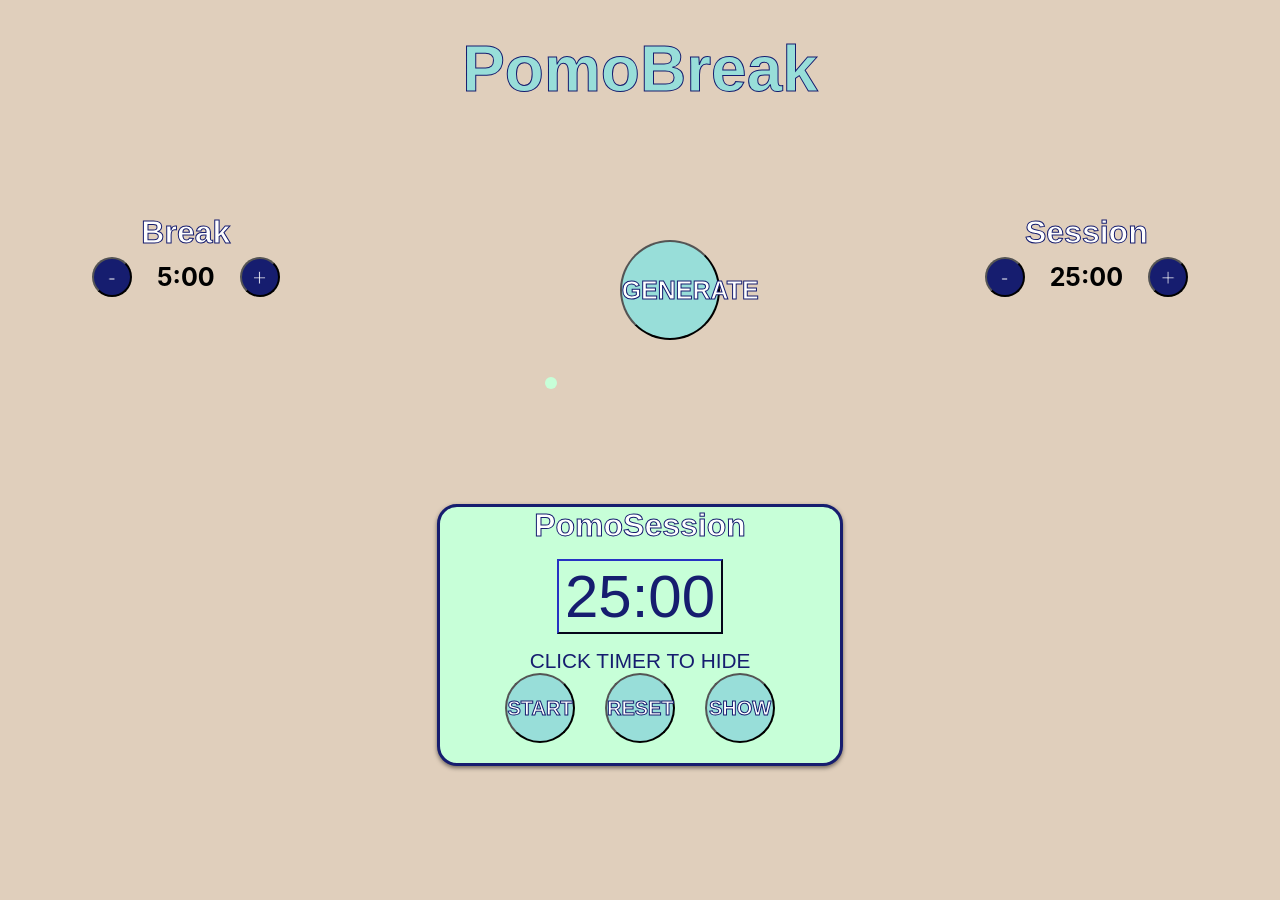
Test: Session Length Test: Can Decrease and Increase Timer
The image size is (1280, 900).
Step 1. Click the button with id "session-reduce" → (1005, 276), box 985,256 -> 1025,296
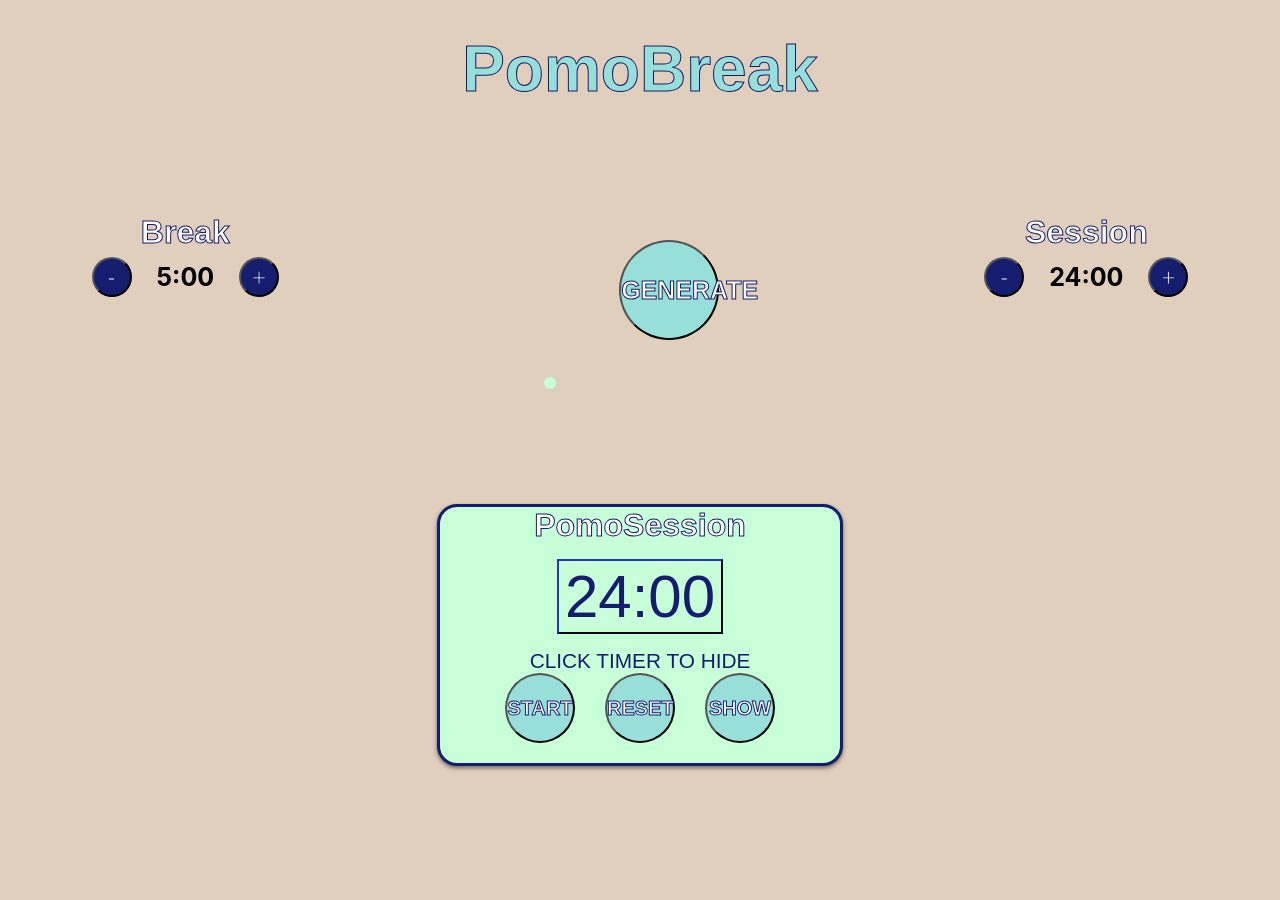
Check: the heading with id "session-length" reads "24:00", box 1049,262 -> 1123,292
Step 2. Click the button with id "session-increase" → (1168, 276), box 1148,256 -> 1188,296
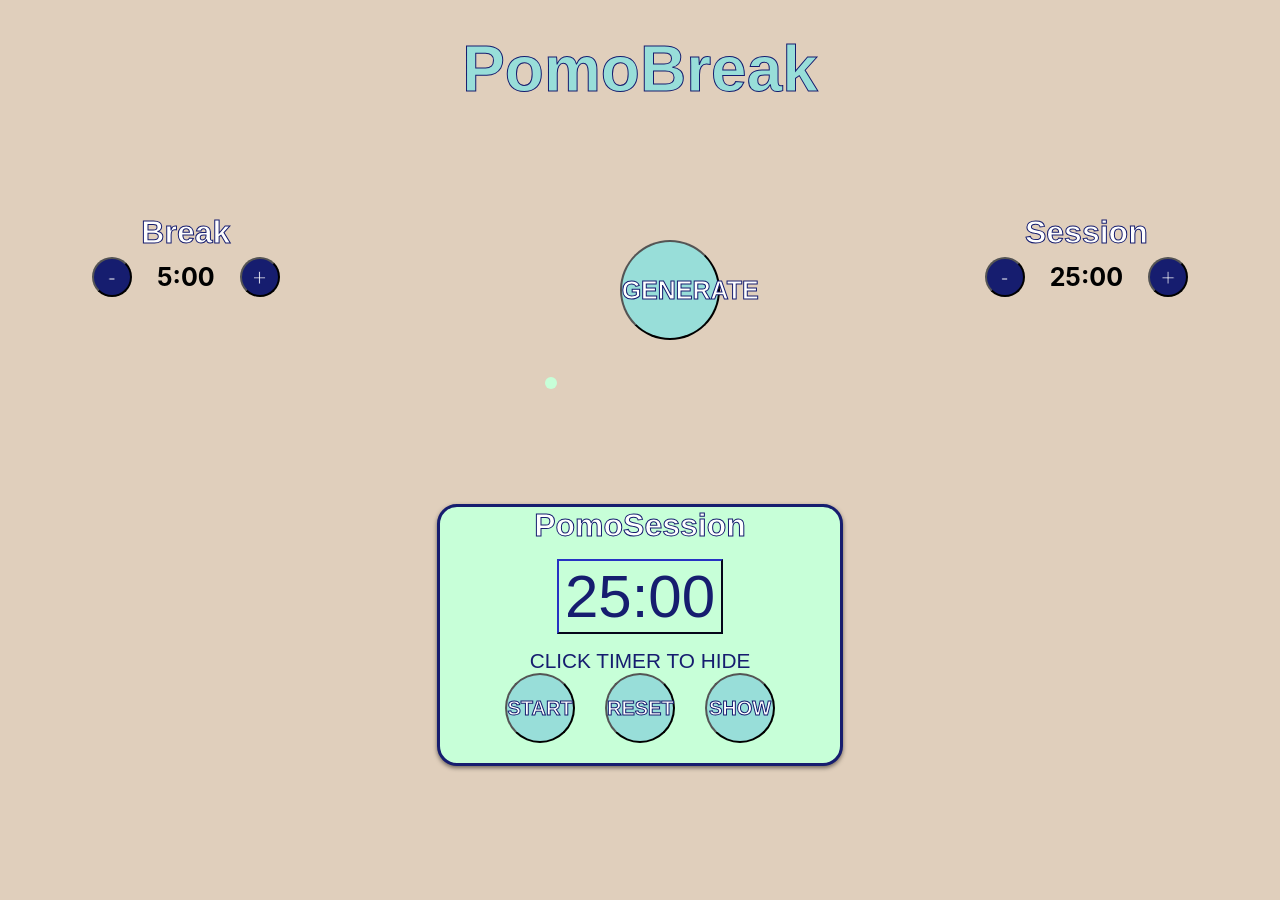
Step 3. Click the button with id "session-increase" → (1168, 276), box 1148,256 -> 1188,296
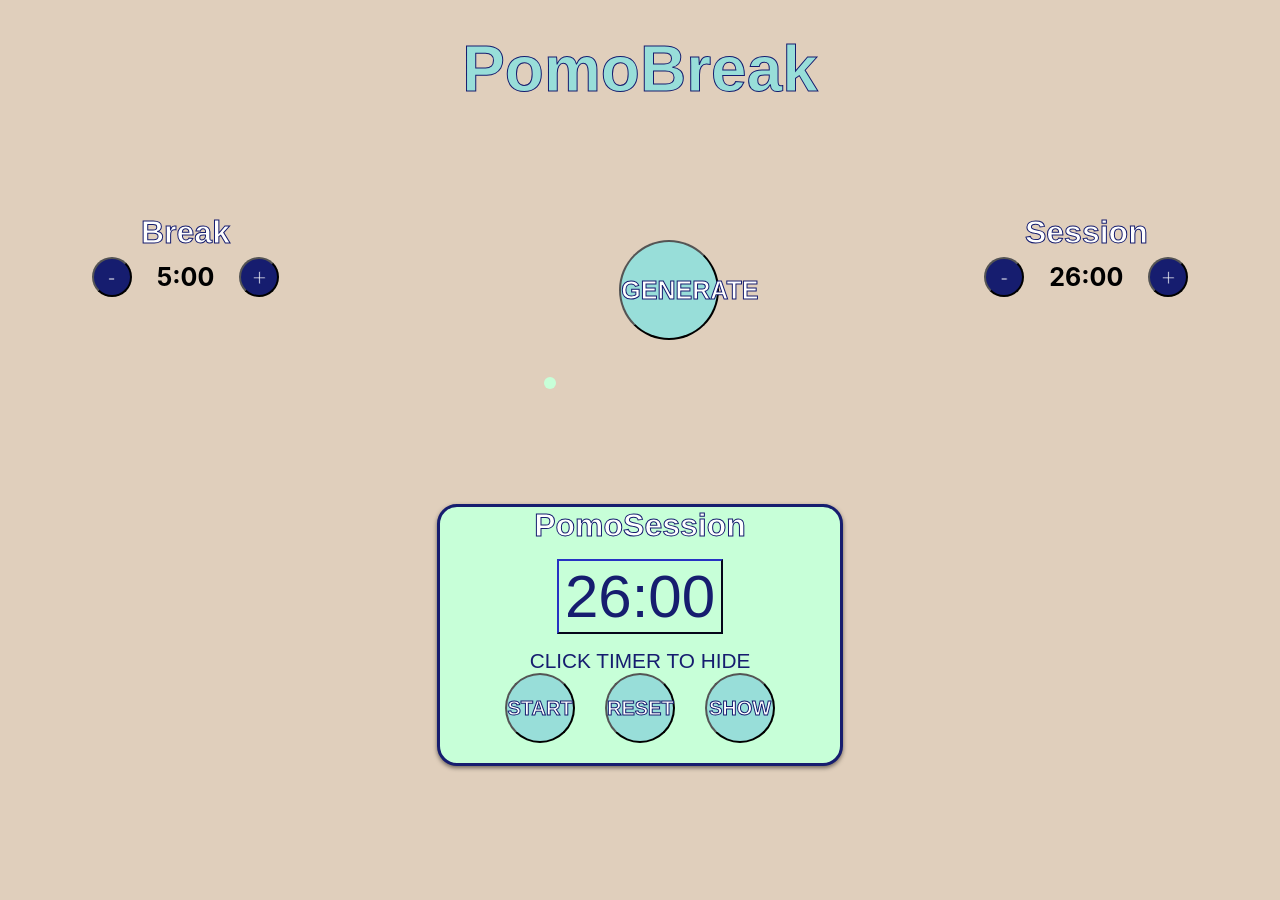
Check: the heading with id "session-length" reads "26:00", box 1049,262 -> 1123,292
